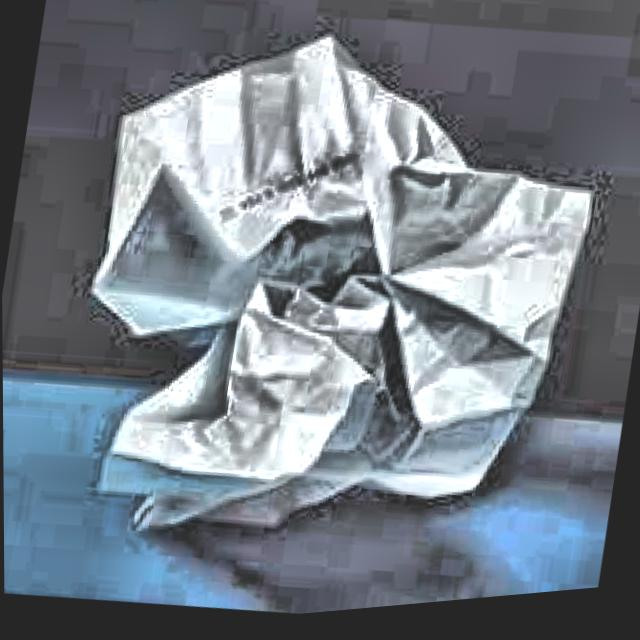Paper: (47, 0, 615, 603)
